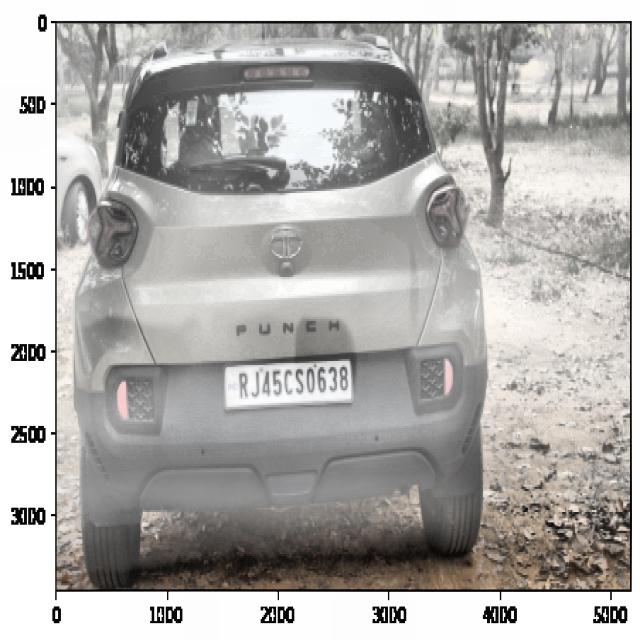license_plate: (232, 361, 354, 408)
